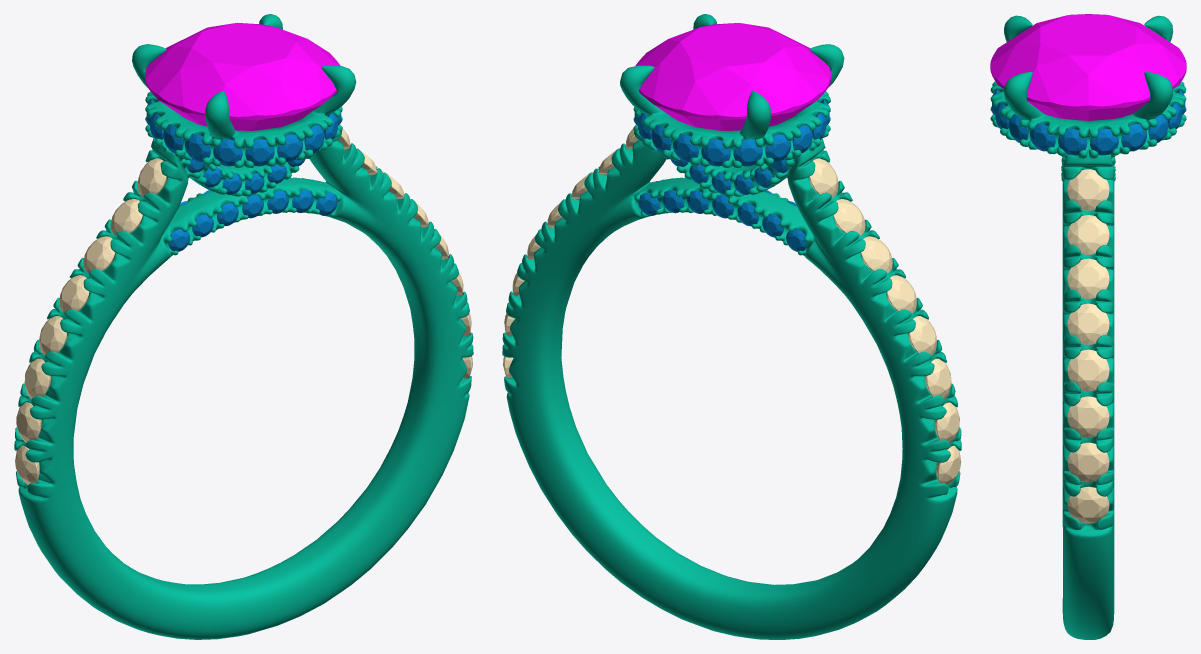
The model's file is BE1D9213_RD_200ct_RENDER.glb.
3 renders of one model, left to right at view 1: azimuth 30°, elevation 25°; view 2: azimuth 150°, elevation 25°; view 3: azimuth 270°, elevation 25°, orthographic.
Parts seen in each view (by area): view 1: Metal 01, CS_Diamond_Round, Diamond_Round_Gem_SH.005, Diamond_Round_Gem_SH.004, Diamond_Round_Gem_SH.006, Diamond_Round_Gem_SH.003, Diamond_Round_Gem_SH.007, Diamond_Round_Gem_SH.002, Diamond_Round_Gem_SH.001; view 2: Metal 01, CS_Diamond_Round, Diamond_Round_Gem_SH.005, Diamond_Round_Gem_SH.006, Diamond_Round_Gem_SH.004, Diamond_Round_Gem_SH.003, Diamond_Round_Gem_SH.007, Diamond_Round_Gem_SH.002, Diamond_Round_Gem_SH.001, Diamond_Round_Gem_SH; view 3: Metal 01, CS_Diamond_Round, Diamond_Round_Gem_SH.012, Diamond_Round_Gem_SH.013, Diamond_Round_Gem_SH.011, Diamond_Round_Gem_SH.008, Diamond_Round_Gem_SH.010, Diamond_Round_Gem_SH.014, Diamond_Round_Gem_SH.009, Diamond_Round_Gem_SH.015, Diamond_Round_Gem_HD.009, Diamond_Round_Gem_HD.010 (+4 smaller).
Part boxes in pixels (box(x1,y1,x2,y2)): Metal 01: box(14, 14, 473, 639); CS_Diamond_Round: box(145, 22, 340, 130); Diamond_Round_Gem_SH.005: box(83, 236, 115, 272); Diamond_Round_Gem_SH.004: box(59, 275, 89, 312); Diamond_Round_Gem_SH.006: box(110, 199, 142, 235); Diamond_Round_Gem_SH.003: box(39, 316, 67, 355); Diamond_Round_Gem_SH.007: box(137, 158, 166, 197); Diamond_Round_Gem_SH.002: box(24, 358, 51, 398); Diamond_Round_Gem_SH.001: box(16, 402, 41, 442); Metal 01: box(502, 14, 961, 639); CS_Diamond_Round: box(635, 23, 830, 130); Diamond_Round_Gem_SH.005: box(861, 236, 892, 272); Diamond_Round_Gem_SH.006: box(833, 199, 865, 235); Diamond_Round_Gem_SH.004: box(887, 275, 916, 313); Diamond_Round_Gem_SH.003: box(908, 316, 936, 355); Diamond_Round_Gem_SH.007: box(809, 158, 838, 197); Diamond_Round_Gem_SH.002: box(924, 358, 951, 399); Diamond_Round_Gem_SH.001: box(934, 402, 959, 442); Diamond_Round_Gem_SH: box(936, 445, 961, 484); Metal 01: box(990, 15, 1186, 639); CS_Diamond_Round: box(990, 14, 1186, 120); Diamond_Round_Gem_SH.012: box(1067, 349, 1109, 391); Diamond_Round_Gem_SH.013: box(1067, 396, 1109, 437); Diamond_Round_Gem_SH.011: box(1067, 303, 1109, 344); Diamond_Round_Gem_SH.008: box(1067, 169, 1109, 210); Diamond_Round_Gem_SH.010: box(1067, 258, 1109, 298); Diamond_Round_Gem_SH.014: box(1067, 442, 1109, 482); Diamond_Round_Gem_SH.009: box(1067, 215, 1109, 254); Diamond_Round_Gem_SH.015: box(1067, 486, 1109, 523); Diamond_Round_Gem_HD.009: box(1058, 128, 1087, 155); Diamond_Round_Gem_HD.010: box(1090, 128, 1118, 155).
Bounding box in the file's own units: 20.89 × 26.12 × 8.
